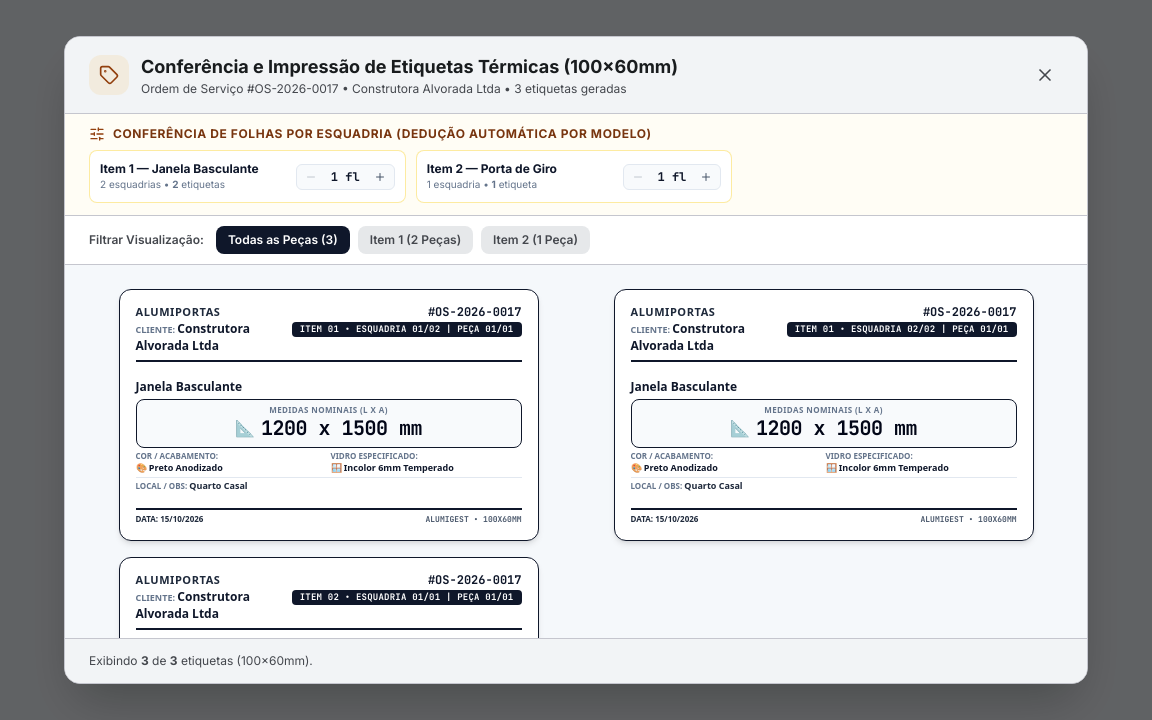
Scenario: ThermalLabelModal — [BUG #486] Paridade com o resolvedor do backend › ordena as etiquetas e os filtros pelo campo ordem do item
Expected: the elements with test id "label-piece-fraction" read "Item 01 • Esquadria 01/02 | Peça 01/01", "Item 01 • Esquadria 02/02 | Peça 01/01", "Item 02 • Esquadria 01/01 | Peça 01/01", in this order, left=292, top=322, right=522, bottom=337; left=787, top=322, right=1016, bottom=337; left=292, top=590, right=522, bottom=605
Expected: the button with test id "filter-piece-item-1" reads "Item 1 (2 Peças)", left=358, top=226, right=473, bottom=254
Click the button with test id "filter-piece-item-2". click: (536, 240)
box: left=481, top=226, right=590, bottom=254
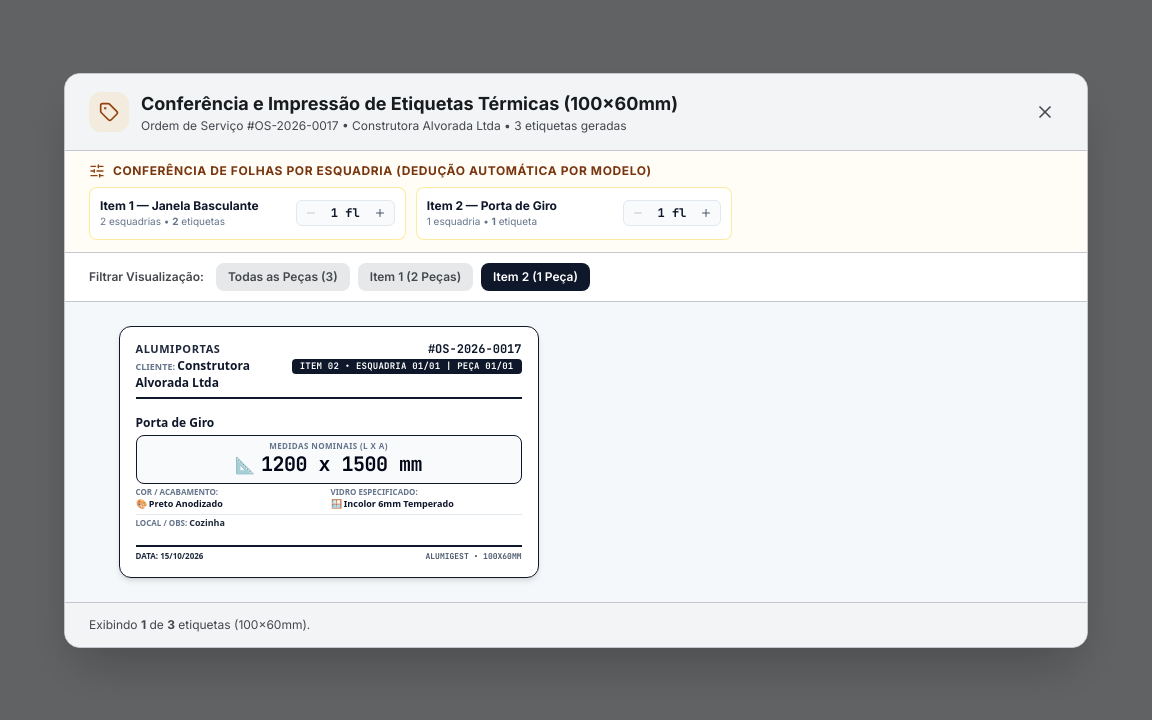
Result: the number of elements with test id "thermal-label-card" is 1 at left=118, top=326, right=538, bottom=578
Result: the text "Porta de Giro" is shown at left=136, top=414, right=214, bottom=431
